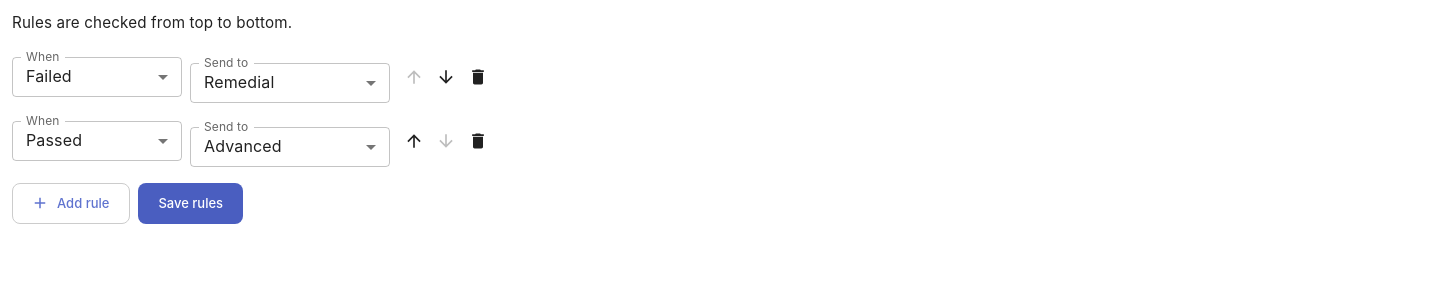
Test: QuizBranching › reorders rules before saving
Click the button named "Move rule up" next to "Advanced": {"x": 414, "y": 141} 400,127 -> 428,155
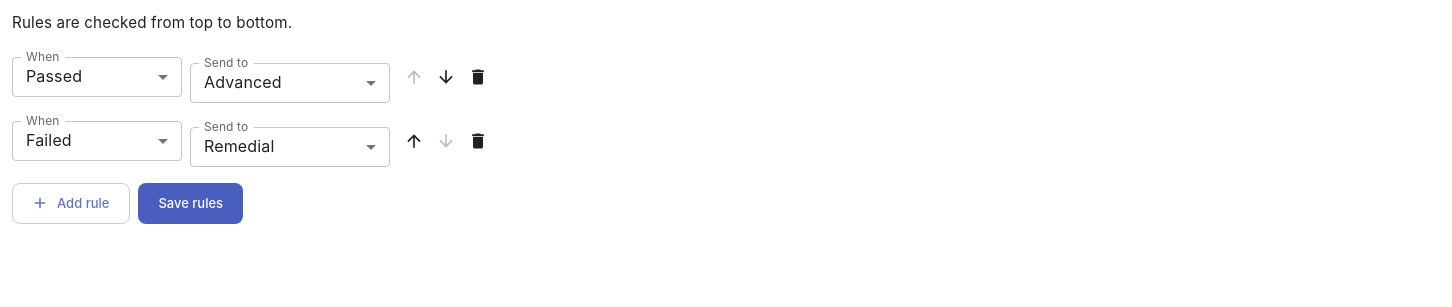
Click the button "Save rules": {"x": 191, "y": 203} 138,183 -> 243,224
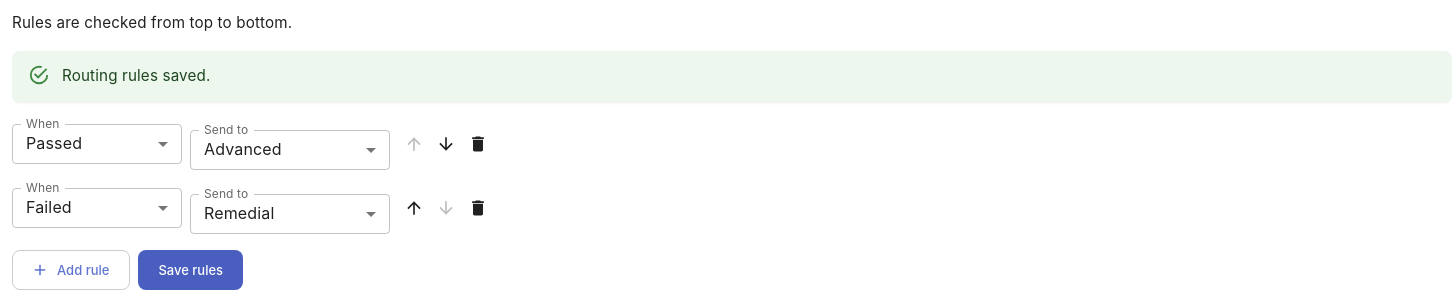
Expected: the text "Routing rules saved." is shown, 62,66 -> 210,85
